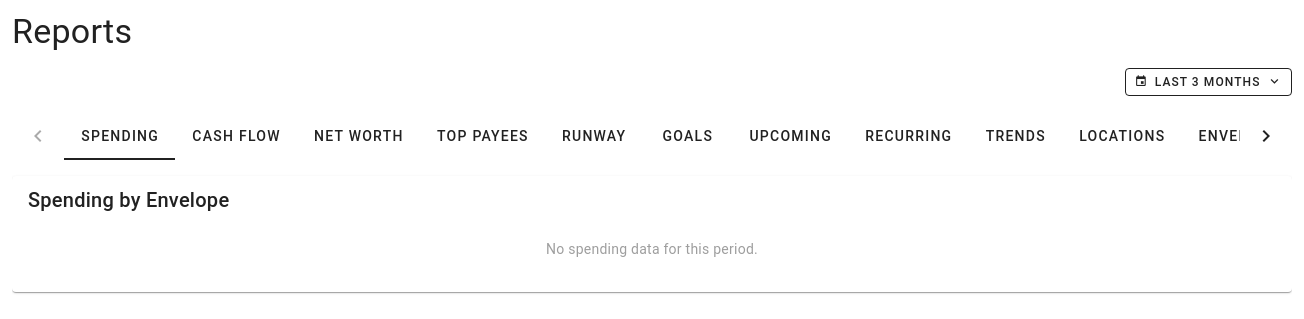
Test: ReportsView › Locations Tab › shows empty state when no data
Step 1. Click the tab "Locations" → (1122, 136), box [1062,112,1181,160]
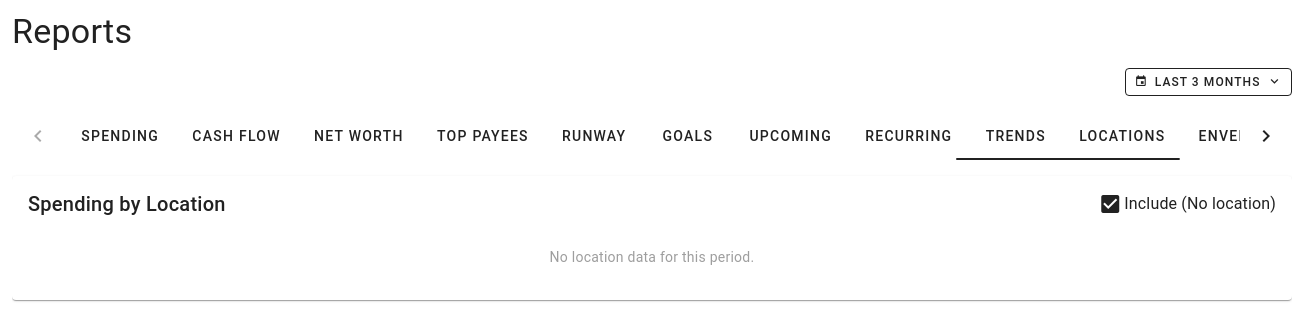
Result: the text "No location data for this period" is shown at [550,249,754,265]
